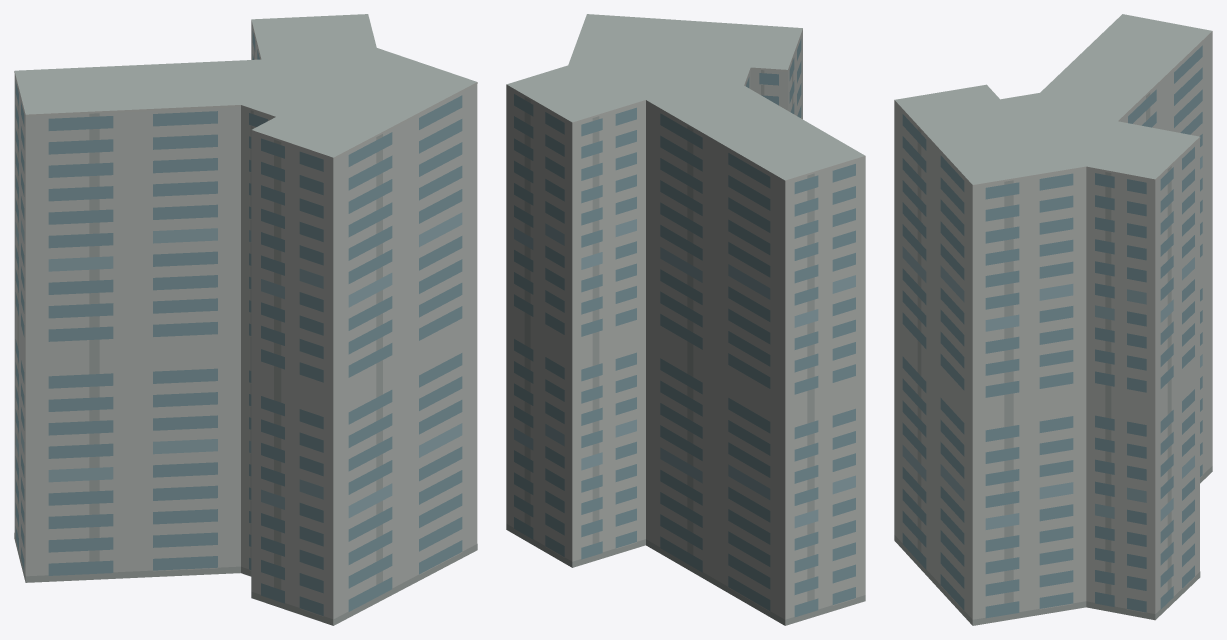
Rendered from residential-20d3a048-8d17-4428-b73e-2c0ac19e7a20.glb.
3 views of the same model, side by side, from view 1: azimuth 30°, elevation 25°; view 2: azimuth 150°, elevation 25°; view 3: azimuth 270°, elevation 25° (orthographic). The views are drawn at different scales.
Parts seen in each view (by area): view 1: residential-20d3a048-8d17-4428-b73e-2c0ac19e7a20.tmp; view 2: residential-20d3a048-8d17-4428-b73e-2c0ac19e7a20.tmp; view 3: residential-20d3a048-8d17-4428-b73e-2c0ac19e7a20.tmp.
Part boxes in pixels (x1,y1,x2,y2): residential-20d3a048-8d17-4428-b73e-2c0ac19e7a20.tmp: (14, 14, 477, 625); residential-20d3a048-8d17-4428-b73e-2c0ac19e7a20.tmp: (506, 14, 865, 625); residential-20d3a048-8d17-4428-b73e-2c0ac19e7a20.tmp: (894, 14, 1212, 625).
Size of the model in its own units: 48.28 by 58 by 37.94.
